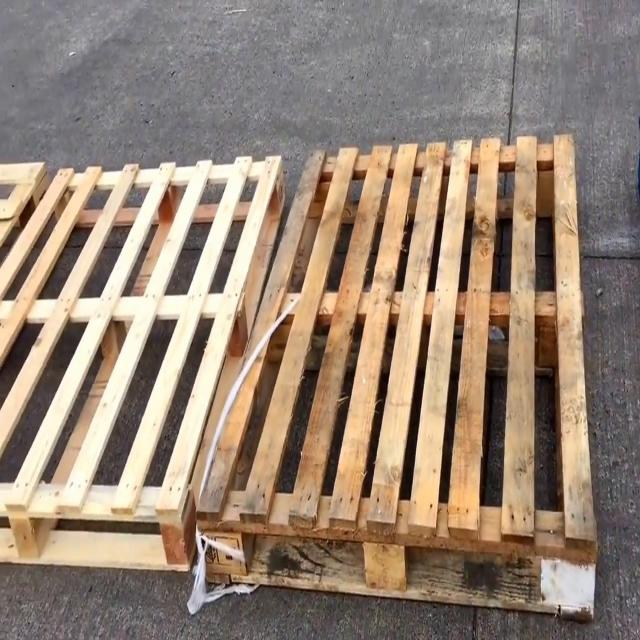Palette: (194, 107, 600, 625), (0, 156, 294, 586), (0, 156, 54, 258)
